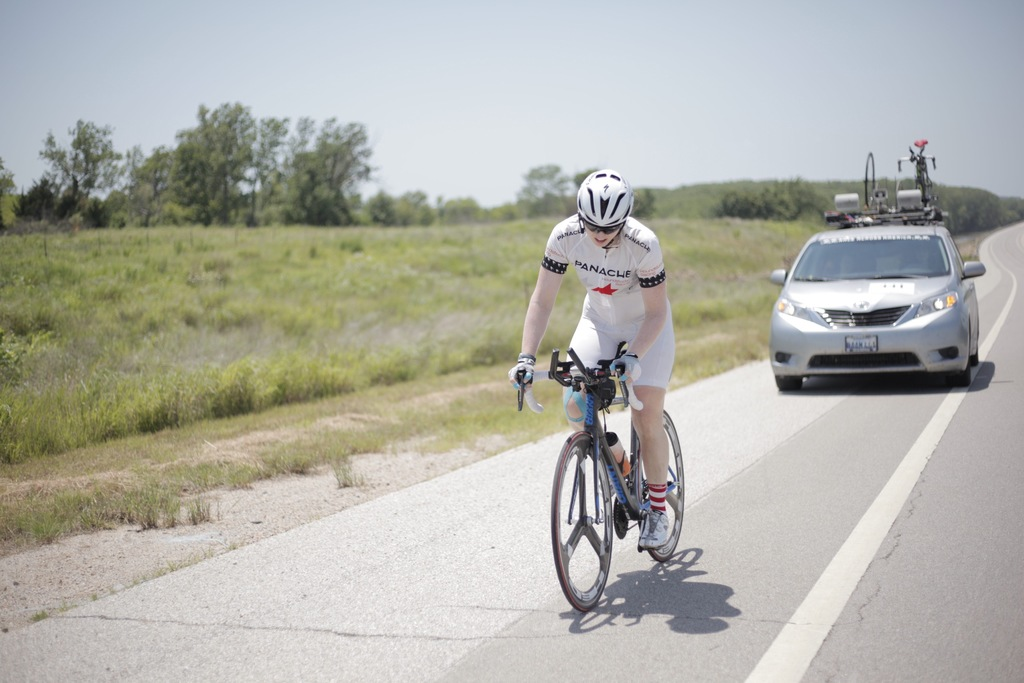Bike: (512, 339, 686, 613)
